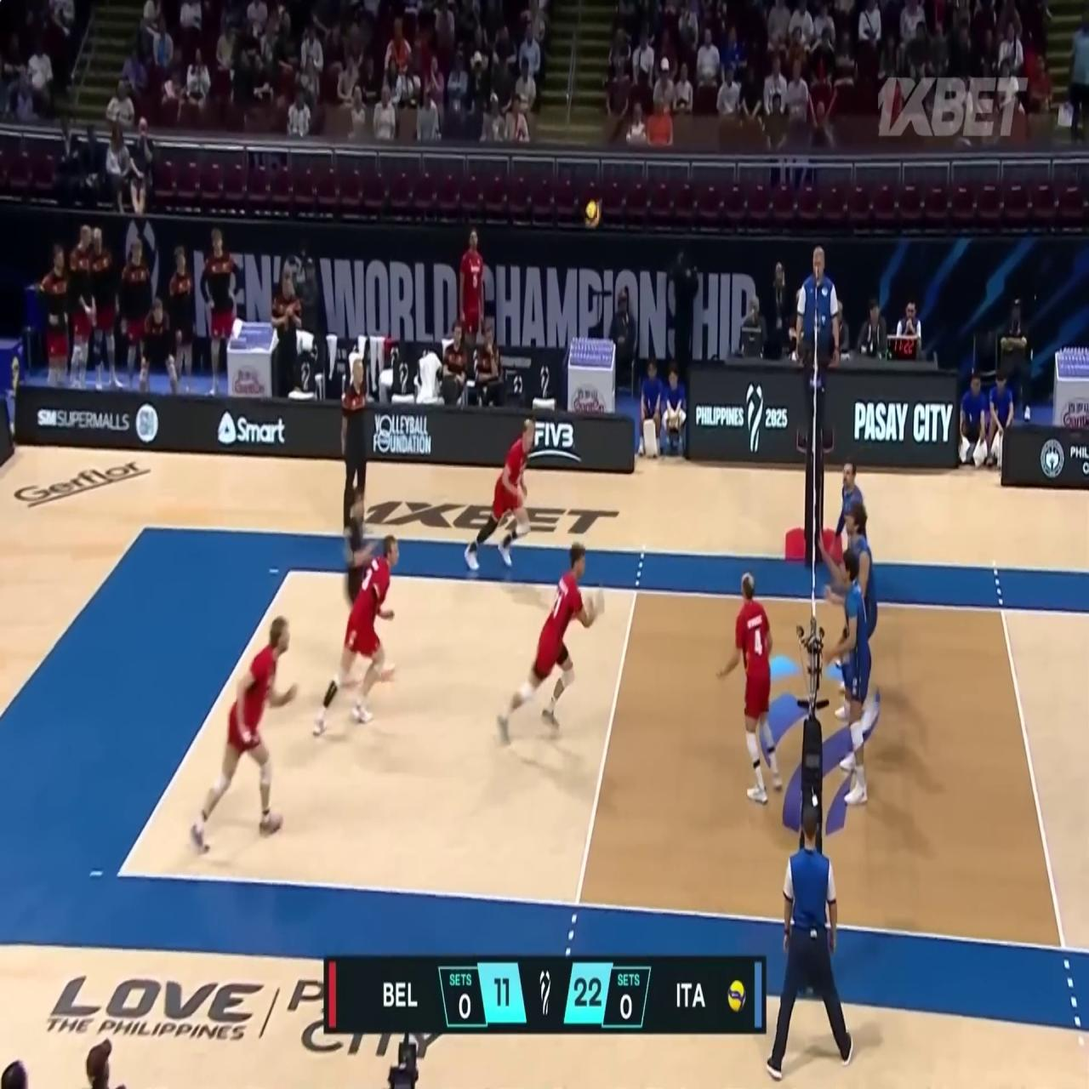ball: (585, 201, 600, 229)
